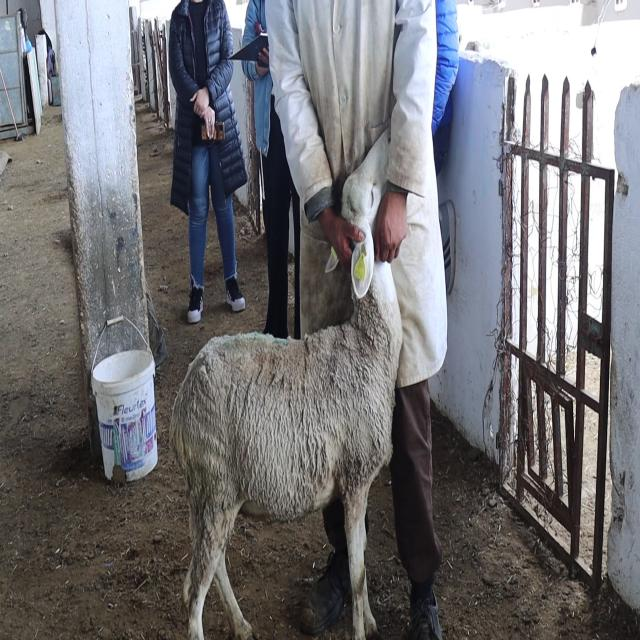Score_1: (170, 131, 402, 639)
